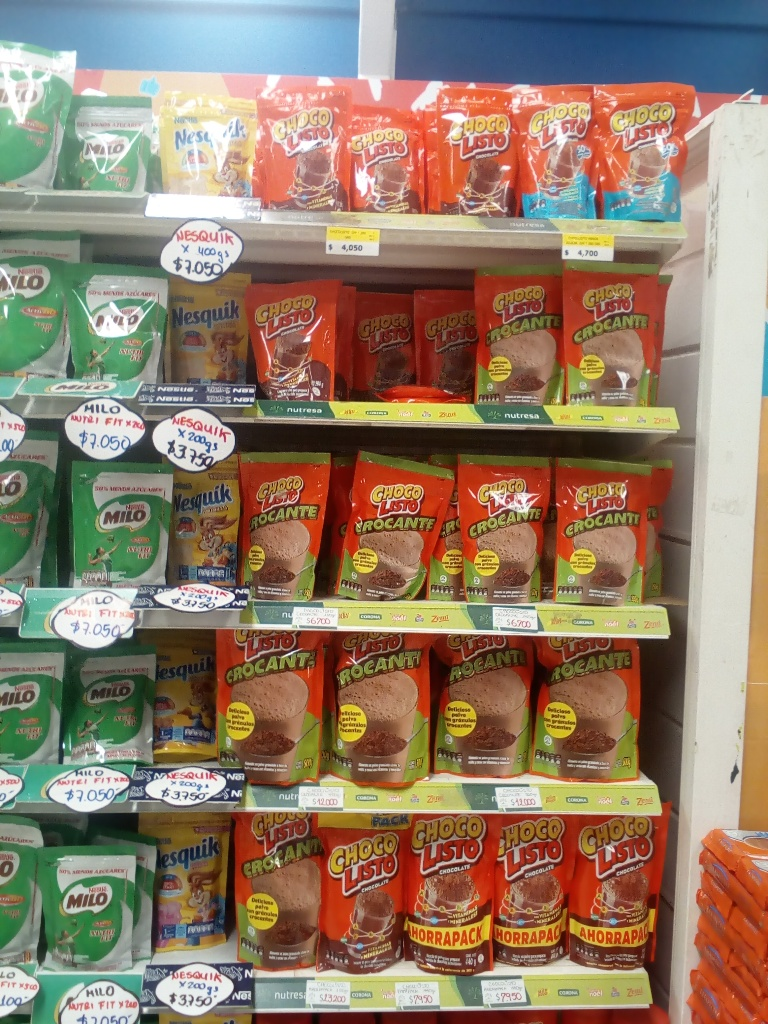COL0170102DYP25000: (234, 443, 335, 603)
COL0170102DYP50000: (229, 809, 323, 976)
COL0170103DYP20000: (242, 281, 341, 394)
COL0170103DYP44000: (318, 809, 410, 967)
COL0170104DYP20000: (516, 79, 600, 216)
COL0170205DYP20000: (32, 839, 141, 986)
COL0170205DYP50000: (1, 46, 71, 198)
COL0170303DYP20000: (146, 632, 219, 768)
COL0170305DYP20000: (141, 810, 231, 958)
COL0170306DYP20000: (156, 87, 256, 198)
